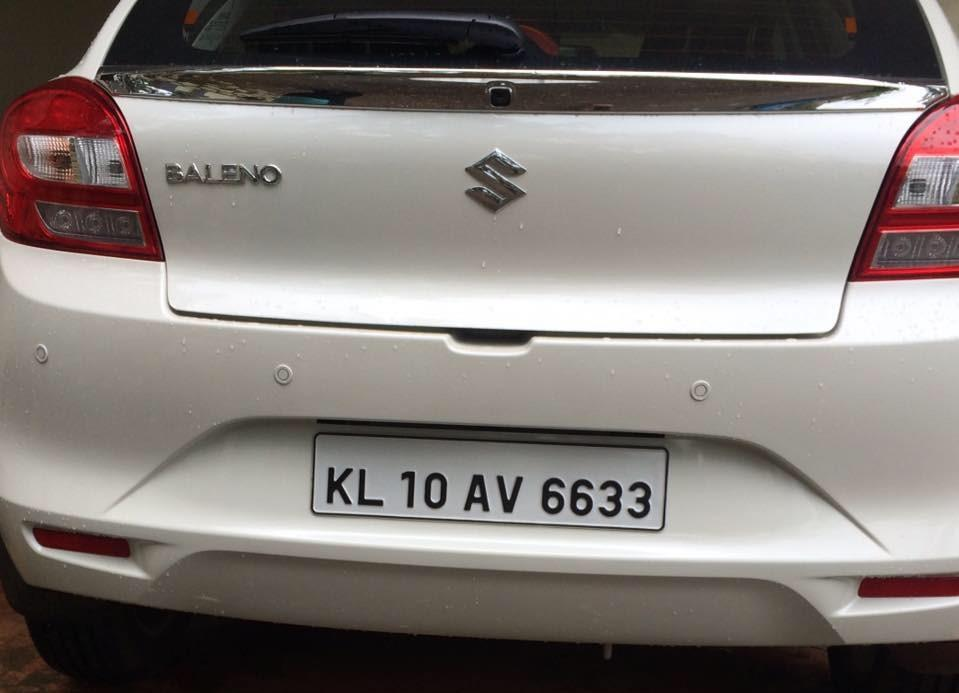License-Plate: (316, 431, 669, 535)
